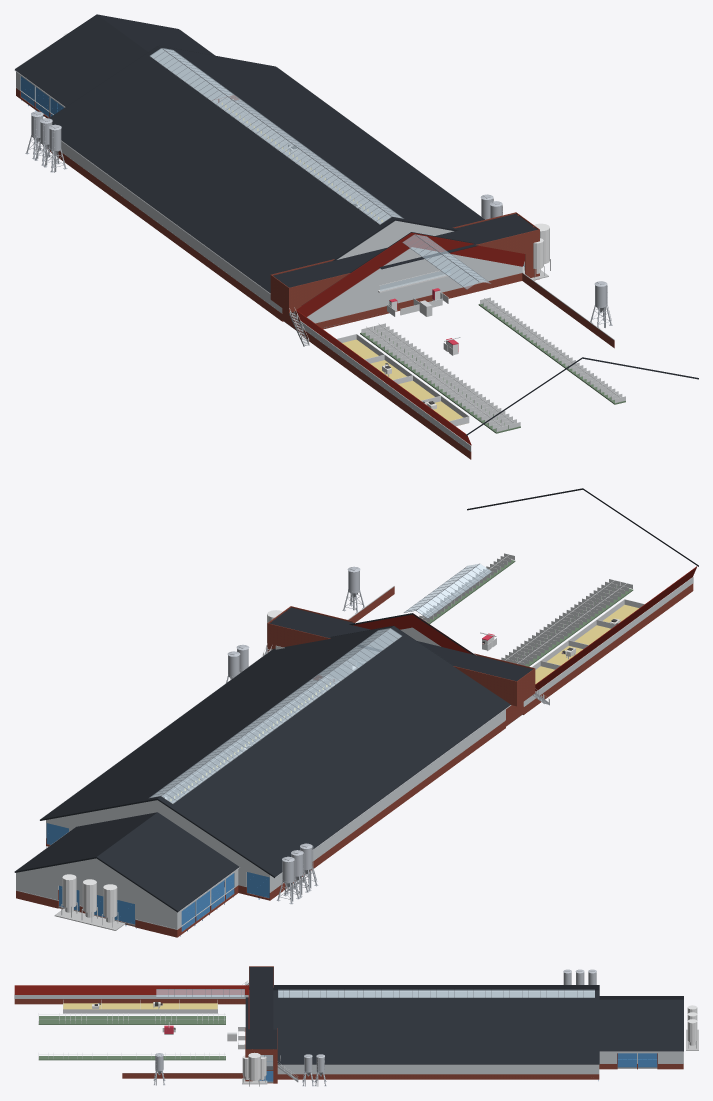
The model's file is milieustallen.glb.
3 renders of one model, top to bottom at view 1: azimuth 30°, elevation 25°; view 2: azimuth 150°, elevation 25°; view 3: azimuth 270°, elevation 25°, orthographic. The views are drawn at different scales.
Visible parts, largest first — view 1: Basic Roof NLRS_20_RO_dakplaten 95_gen_CGA 2 [5729516], Basic Roof NLRS_20_RO_dakplaten 95_gen_CGA 2 [5729837], Basic Wall sandwichpaneel MR hor 80mm [5735459], Basic Roof NLRS_47_RO_isolatie PIR bitumen 82 80-2_gen__a8d4, Basic Wall sandwichpaneel MR hor 80mm [5671950], Basic Wall NLRS_22_WA_mw 100_gen_CGA [5671949], Basic Wall houten geveldelen 120mm -22graden [5736632], Basic Wall houten geveldelen 120mm 22graden [5735483], Basic Wall NLRS_22_WA_mw 100_gen_CGA [5735446], Basic Wall NLRS_22_WA_mw 100_gen_CGA [5735445], Basic Wall sandwichpaneel MR hor 80mm [5672115], Basic Wall houten geveldelen 120mm [5735462] (+6 smaller); view 2: Basic Roof NLRS_20_RO_dakplaten 95_gen_CGA 2 [5729516], Basic Roof NLRS_20_RO_dakplaten 95_gen_CGA 2 [5729837], Basic Wall sandwichpaneel MR hor 80mm [5672186], Basic Roof NLRS_47_RO_isolatie PIR bitumen 82 80-2_gen__a8d4, Basic Wall sandwichpaneel MR hor 80mm [5672115], Basic Wall sandwichpaneel MR hor 80mm [5671950], Basic Wall NLRS_22_WA_mw 100_gen_CGA [5671949], Basic Wall NLRS_22_WA_mw 100_gen_CGA [5735445], Basic Wall houten geveldelen 120mm [5735462], Fascia NLRS_47_ROF_boeiboord 25x250_gen_CGA [5943988], Basic Wall sandwichpaneel MR hor 80mm [5671831], Calving_Straw_Bed (+2 smaller); view 3: Basic Roof NLRS_20_RO_dakplaten 95_gen_CGA 2 [5729516], Basic Roof NLRS_20_RO_dakplaten 95_gen_CGA 2 [5729837], Basic Wall sandwichpaneel MR hor 80mm [5672073], Basic Roof NLRS_47_RO_isolatie PIR bitumen 82 80-2_gen__a8d4, Basic Wall houten geveldelen 120mm [5735462], Basic Wall sandwichpaneel MR hor 80mm [5671950], Basic Wall NLRS_22_WA_mw 100_gen_CGA [5672072], Basic Wall NLRS_22_WA_mw 100_gen_CGA [5735445], Calving_Straw_Bed, Basic Wall sandwichpaneel MR hor 80mm [5735458], Mattress_DryCows_11.9, Mattress_DryCows_9.5 (+13 smaller).
Part boxes in pixels (x1,y1,x2,y2): Basic Roof NLRS_20_RO_dakplaten 95_gen_CGA 2 [5729516]: [49, 45, 484, 292]; Basic Roof NLRS_20_RO_dakplaten 95_gen_CGA 2 [5729837]: [15, 14, 214, 106]; Basic Wall sandwichpaneel MR hor 80mm [5735459]: [307, 247, 522, 322]; Basic Roof NLRS_47_RO_isolatie PIR bitumen 82 80-2_gen__a8d4: [273, 214, 537, 287]; Basic Wall sandwichpaneel MR hor 80mm [5671950]: [60, 141, 281, 312]; Basic Wall NLRS_22_WA_mw 100_gen_CGA [5671949]: [47, 148, 282, 321]; Basic Wall houten geveldelen 120mm -22graden [5736632]: [296, 233, 411, 319]; Basic Wall houten geveldelen 120mm 22graden [5735483]: [412, 232, 524, 266]; Basic Wall NLRS_22_WA_mw 100_gen_CGA [5735446]: [315, 273, 522, 329]; Basic Wall NLRS_22_WA_mw 100_gen_CGA [5735445]: [300, 328, 471, 459]; Basic Wall sandwichpaneel MR hor 80mm [5672115]: [151, 49, 232, 99]; Basic Wall houten geveldelen 120mm [5735462]: [296, 310, 471, 444]; Basic Roof NLRS_20_RO_dakplaten 95_gen_CGA 2 [5729516]: [41, 626, 510, 876]; Basic Roof NLRS_20_RO_dakplaten 95_gen_CGA 2 [5729837]: [16, 812, 238, 911]; Basic Wall sandwichpaneel MR hor 80mm [5672186]: [16, 858, 177, 929]; Basic Roof NLRS_47_RO_isolatie PIR bitumen 82 80-2_gen__a8d4: [269, 607, 532, 681]; Basic Wall sandwichpaneel MR hor 80mm [5672115]: [46, 800, 269, 886]; Basic Wall sandwichpaneel MR hor 80mm [5671950]: [269, 710, 505, 892]; Basic Wall NLRS_22_WA_mw 100_gen_CGA [5671949]: [269, 720, 505, 900]; Basic Wall NLRS_22_WA_mw 100_gen_CGA [5735445]: [523, 583, 693, 714]; Basic Wall houten geveldelen 120mm [5735462]: [535, 566, 697, 690]; Fascia NLRS_47_ROF_boeiboord 25x250_gen_CGA [5943988]: [40, 488, 698, 877]; Basic Wall sandwichpaneel MR hor 80mm [5671831]: [319, 629, 505, 719]; Calving_Straw_Bed: [535, 605, 638, 683]; Basic Roof NLRS_20_RO_dakplaten 95_gen_CGA 2 [5729516]: [273, 985, 599, 1064]; Basic Roof NLRS_20_RO_dakplaten 95_gen_CGA 2 [5729837]: [599, 996, 683, 1051]; Basic Wall sandwichpaneel MR hor 80mm [5672073]: [277, 1065, 599, 1073]; Basic Roof NLRS_47_RO_isolatie PIR bitumen 82 80-2_gen__a8d4: [245, 967, 277, 1049]; Basic Wall houten geveldelen 120mm [5735462]: [14, 985, 248, 994]; Basic Wall sandwichpaneel MR hor 80mm [5671950]: [278, 992, 594, 997]; Basic Wall NLRS_22_WA_mw 100_gen_CGA [5672072]: [277, 1074, 599, 1079]; Basic Wall NLRS_22_WA_mw 100_gen_CGA [5735445]: [14, 999, 245, 1004]; Calving_Straw_Bed: [63, 1003, 217, 1009]; Basic Wall sandwichpaneel MR hor 80mm [5735458]: [14, 995, 248, 998]; Mattress_DryCows_11.9: [38, 1020, 225, 1024]; Mattress_DryCows_9.5: [39, 1016, 225, 1020].
Bounding box in the file's own units: 53.4 × 14.55 × 168.
Materials: 28 (6 with a texture image).
